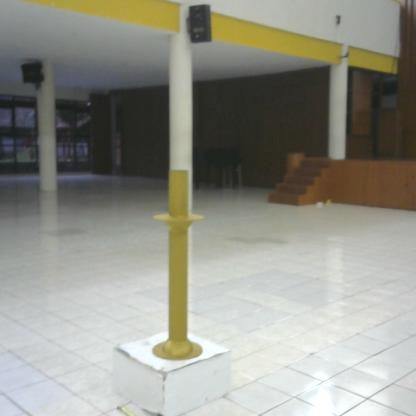pole: (144, 160, 210, 365)
